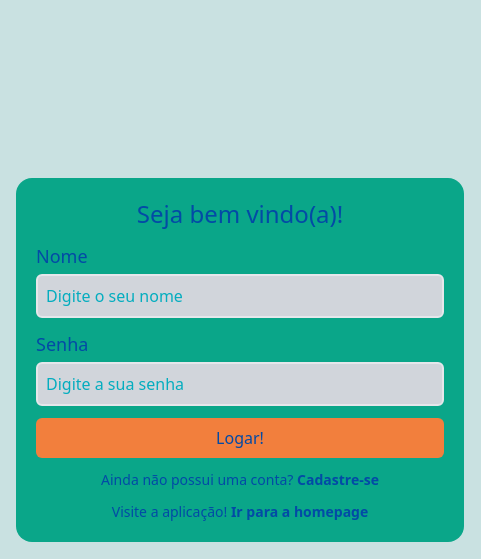
Test: Login page tests › Should be not be able to login with wrong credentials
This screenshot has width=481, height=559.
In the field named "name": (240, 296) left=36, top=274, right=444, bottom=318, type "wrong"
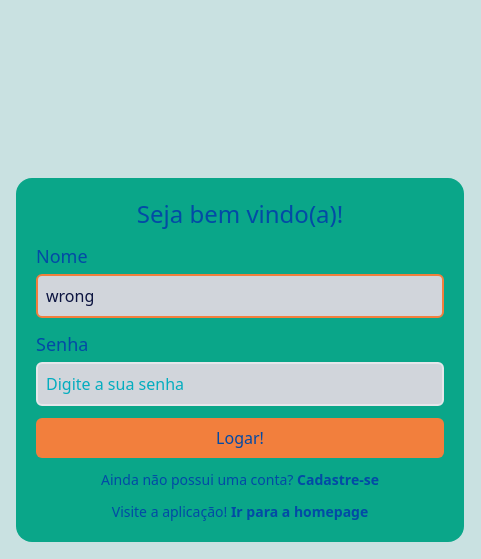
In the password field named "password": (240, 384) left=36, top=362, right=444, bottom=406, type "123456"
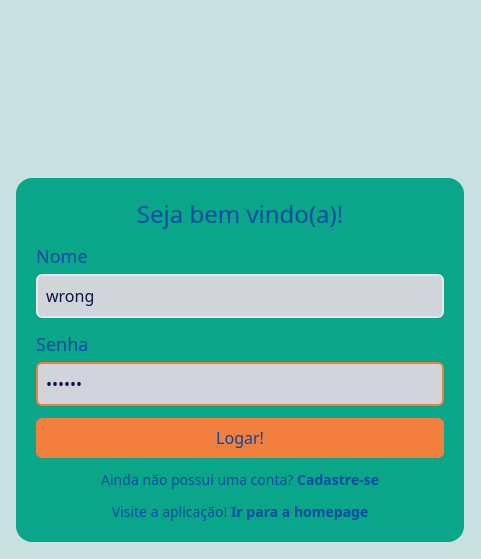
Click the submit button: (240, 438) left=36, top=418, right=444, bottom=458
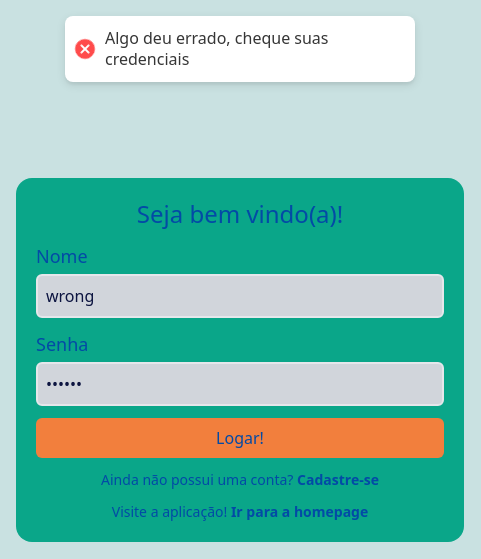
Expected: the text "Algo deu errado, cheque suas credenciais" is shown, left=105, top=27, right=328, bottom=70
